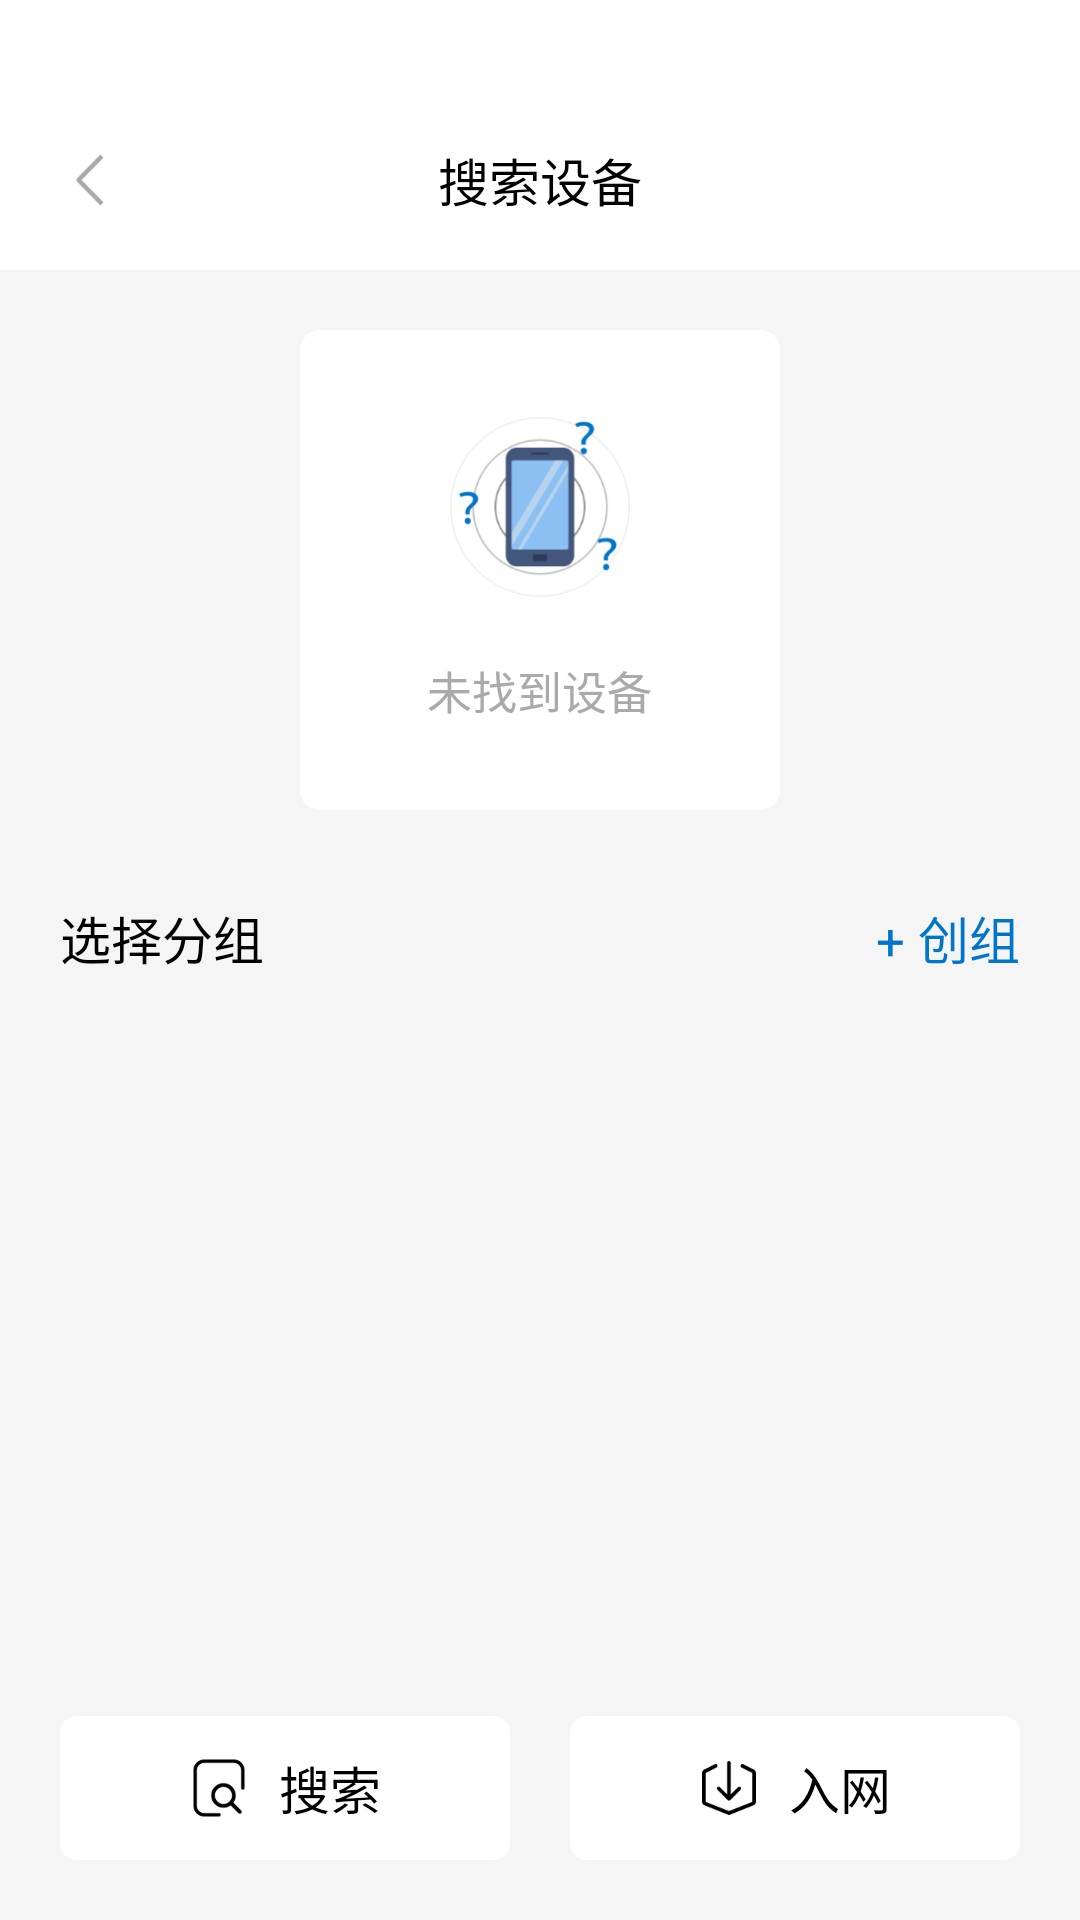

Point at icon controls on the screen. Image size 1080*1920, points as (x,y).
access: (729,1788)
back: (89,180)
devnotfound: (538,498)
search: (219,1788)
